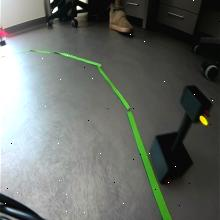green: (180, 85, 214, 128)
